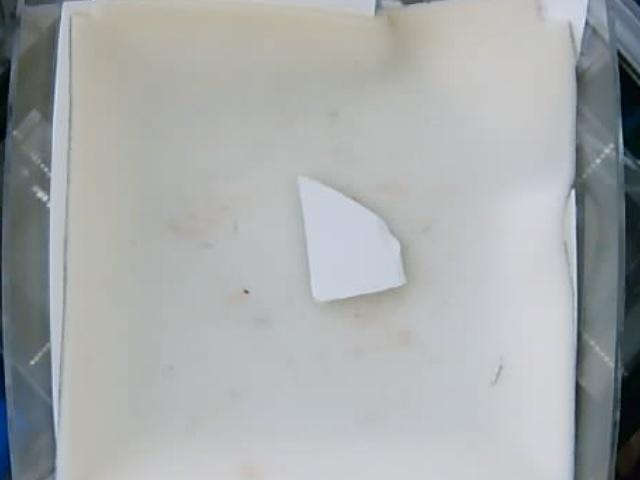China: (296, 175, 407, 303)
